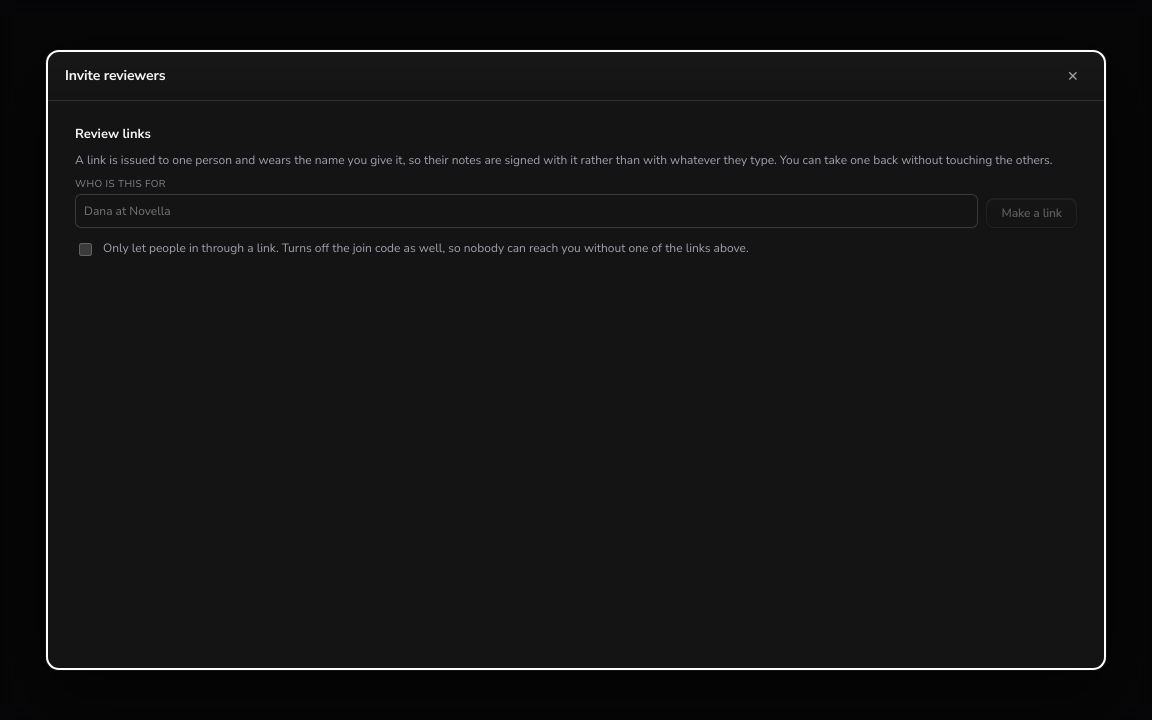
retains the one-time link after a other withdrawal
The width and height of the screenshot is (1152, 720).
Type "Test reviewer" into the field labelled "Who is this for" at (527, 211), box [75,194,978,228]
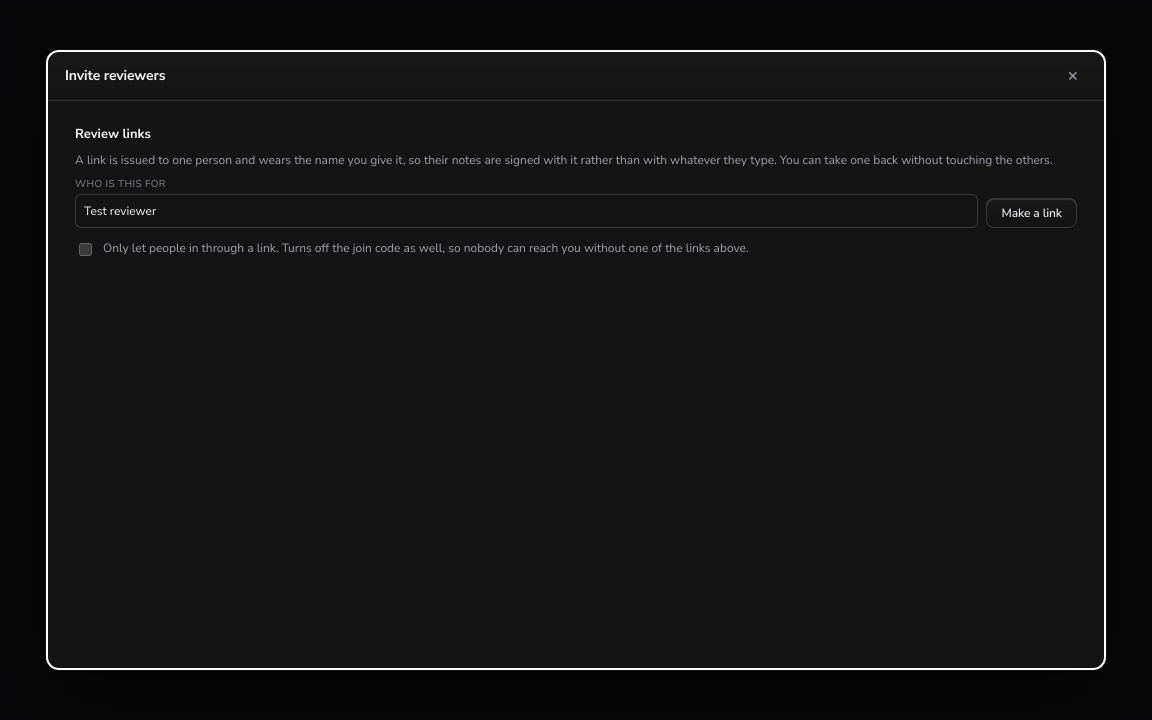
Click the button "Make a link" at (1032, 213), box [986,198,1077,228]
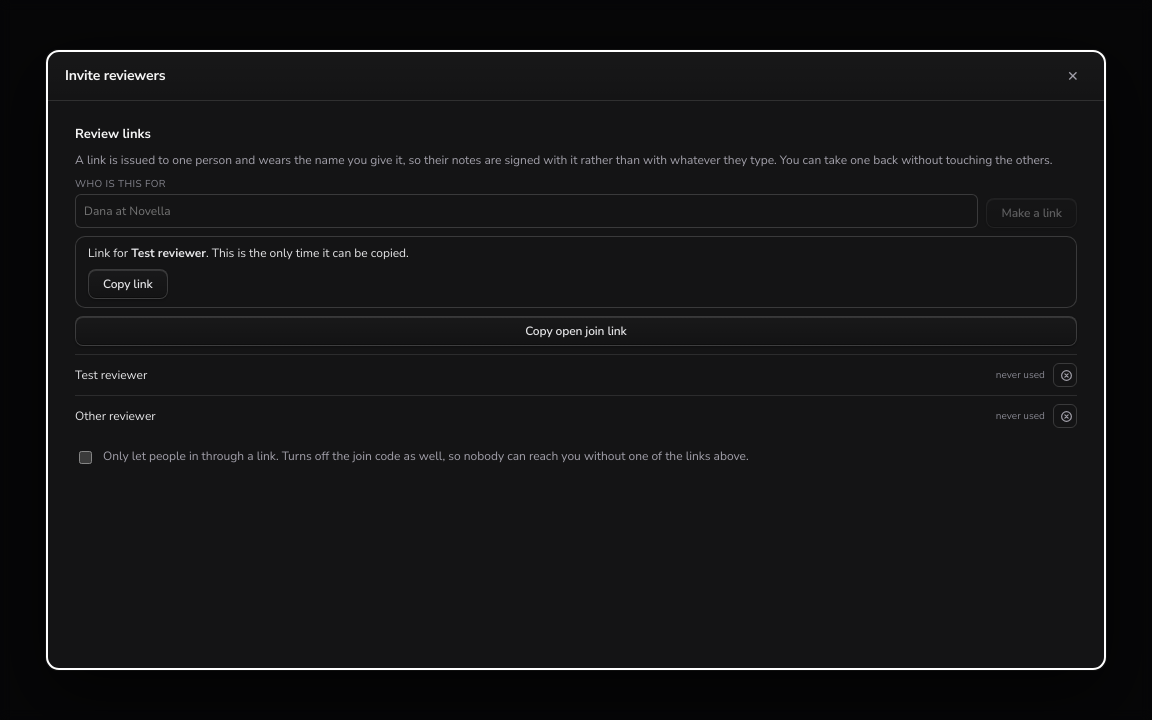
Check: the button "Copy link" is shown, box [88,269,168,299]
Click the button named "Withdraw the link for Other reviewer" at (1065, 416), box [1053,404,1077,428]
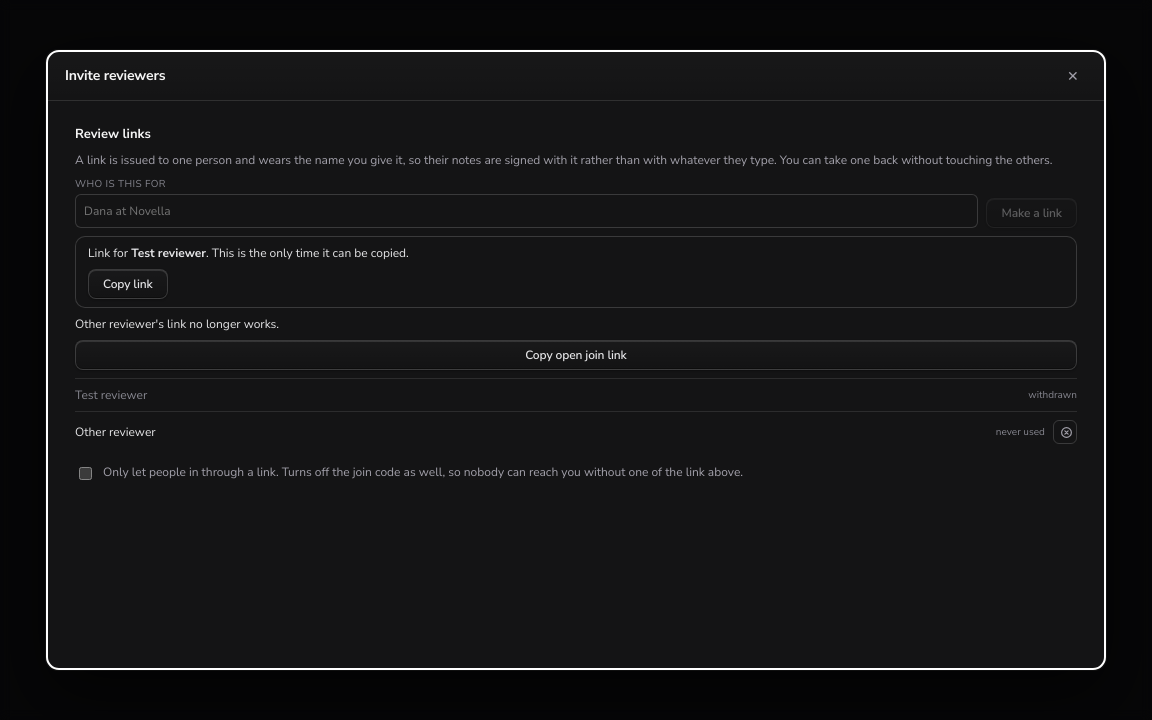
Check: the button "Copy link" is shown, box [88,269,168,299]
Check: the text "Other reviewer's link no longer works." is shown, box [75,316,279,332]
